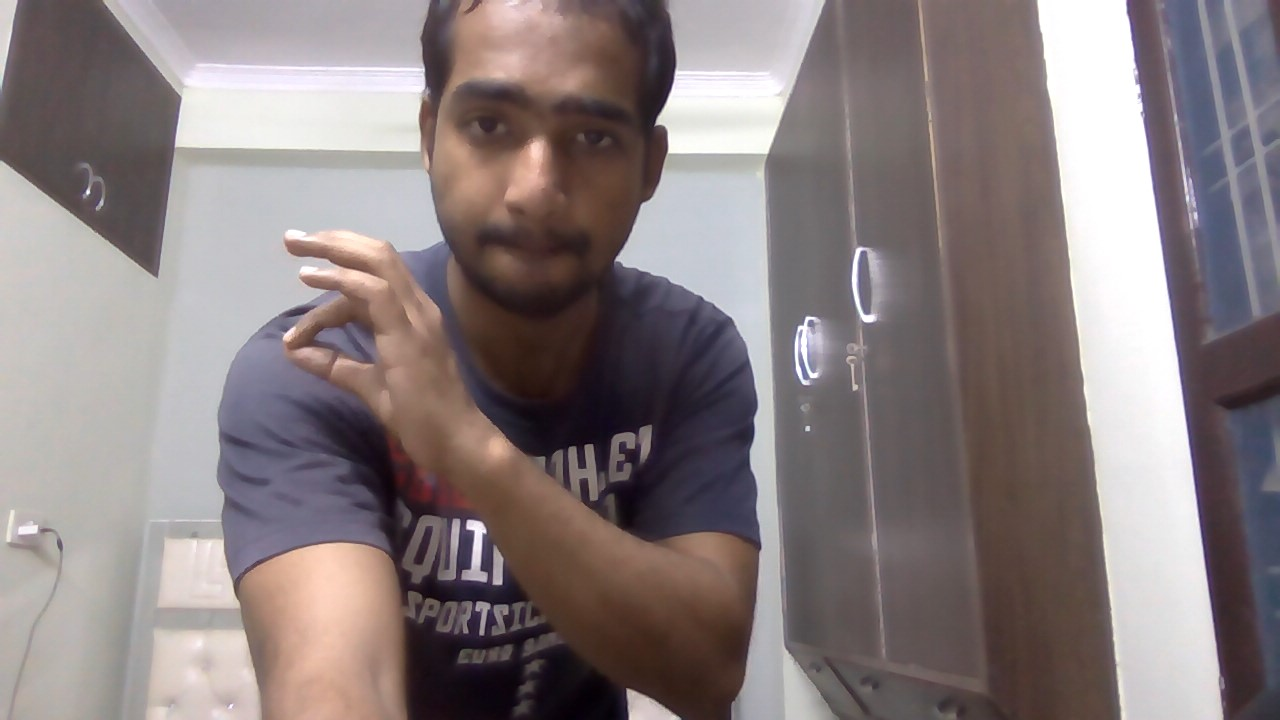Copy: (272, 219, 502, 499)
